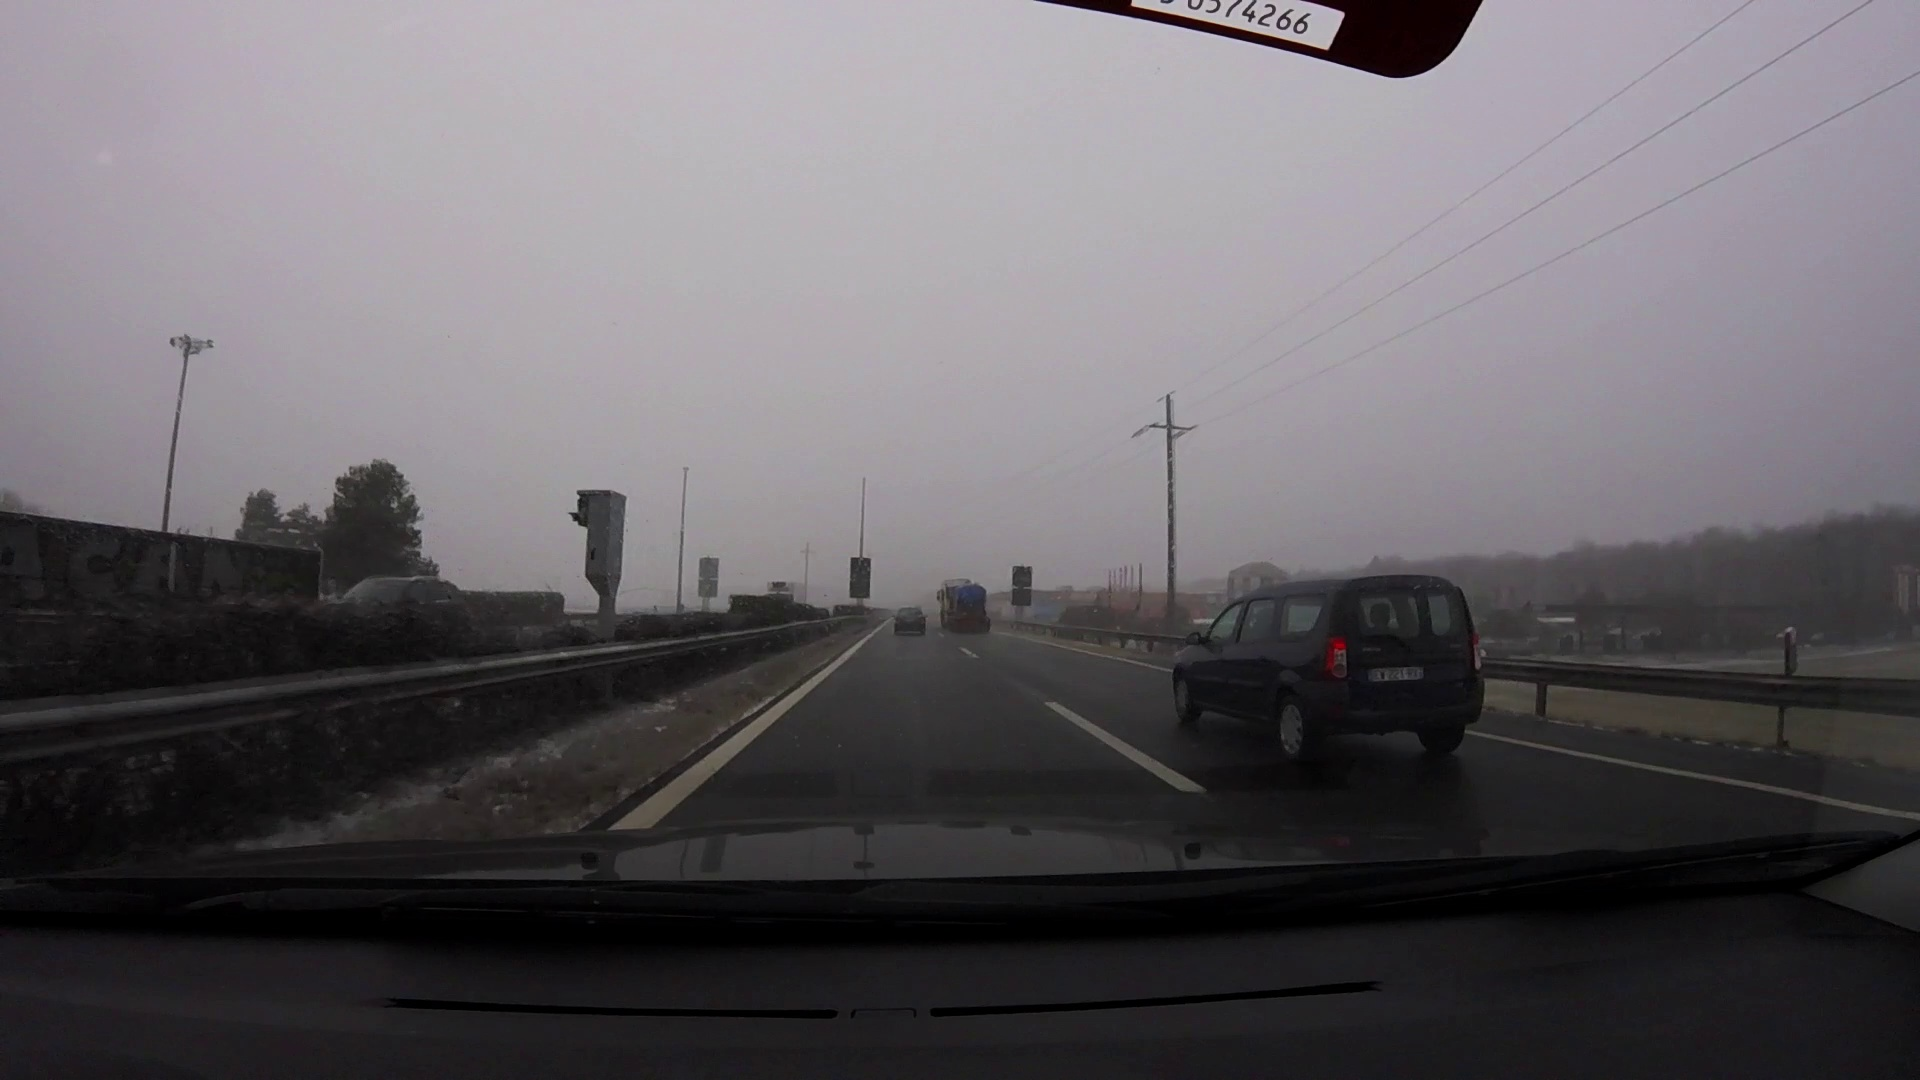radar: (568, 488, 632, 603)
